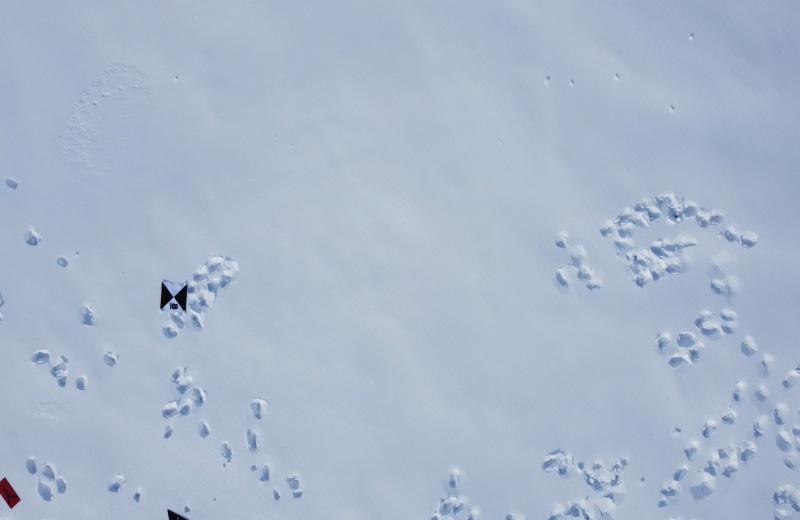Rectangle: (0, 476, 25, 512)
